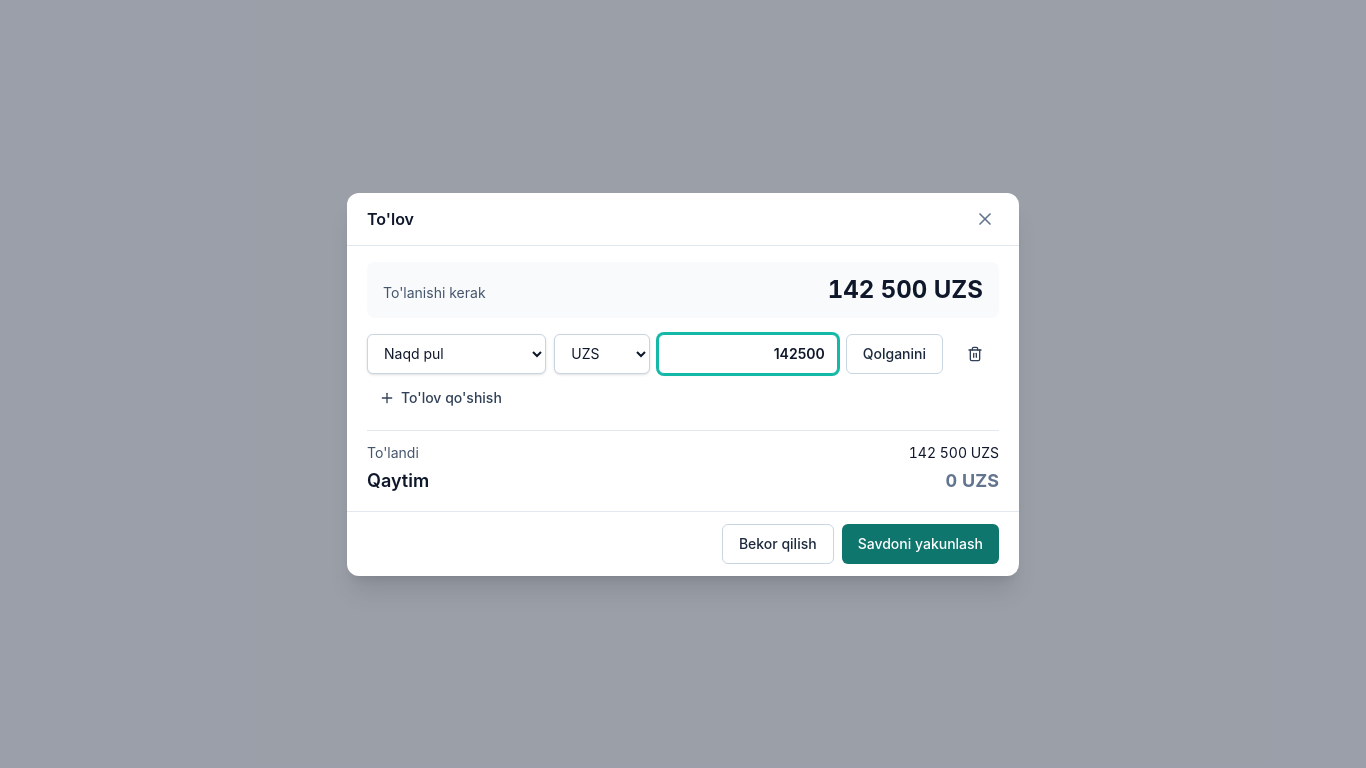
to'lov oynasi: nasiya › mijoz tanlangan bo'lsa qolgani nasiyaga, muddat bilan
The image size is (1366, 768).
Later steps or results of the test are not shown.
Replace the text in the field with test id "pay-amount-1" with "20000" at (748, 354), box [658,334,838,374]
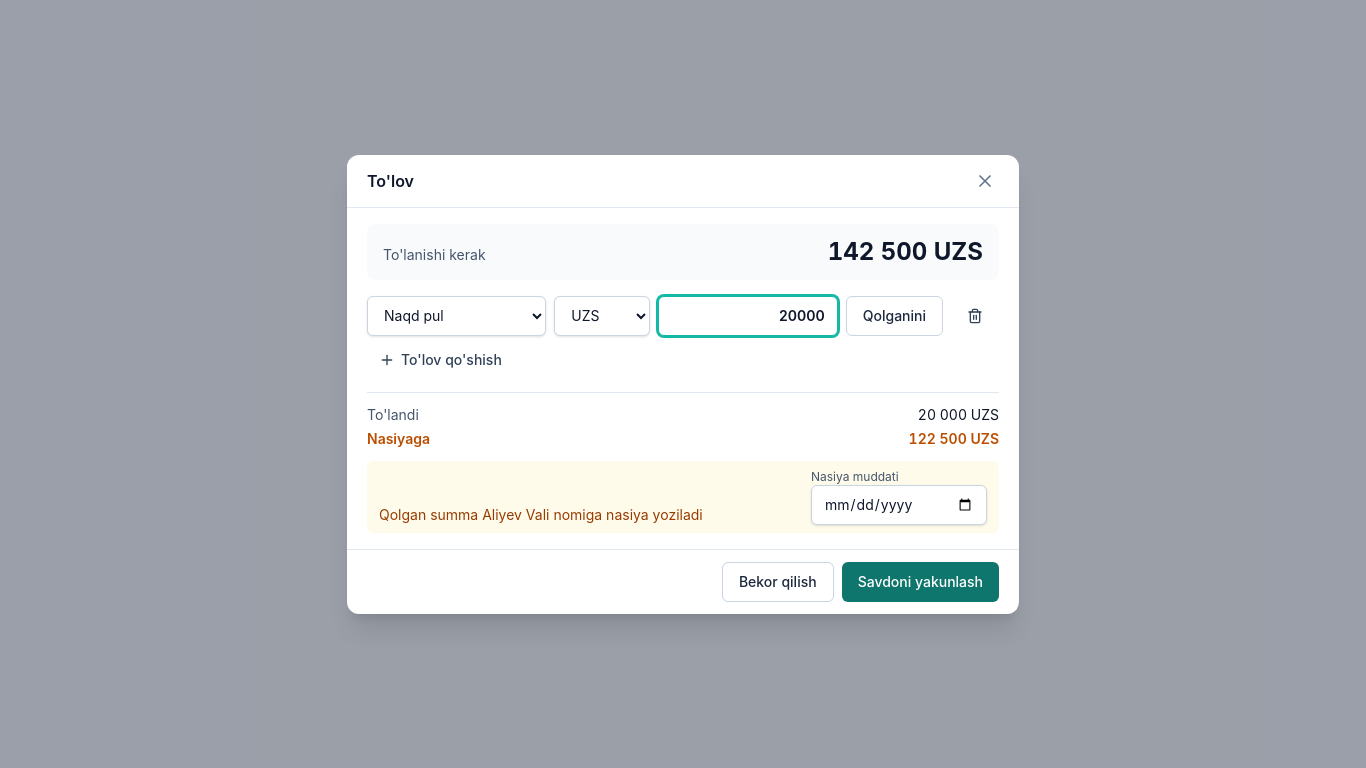
Check: the text with test id "pay-credit" reads "122 500 UZS", box [909,430,999,446]
